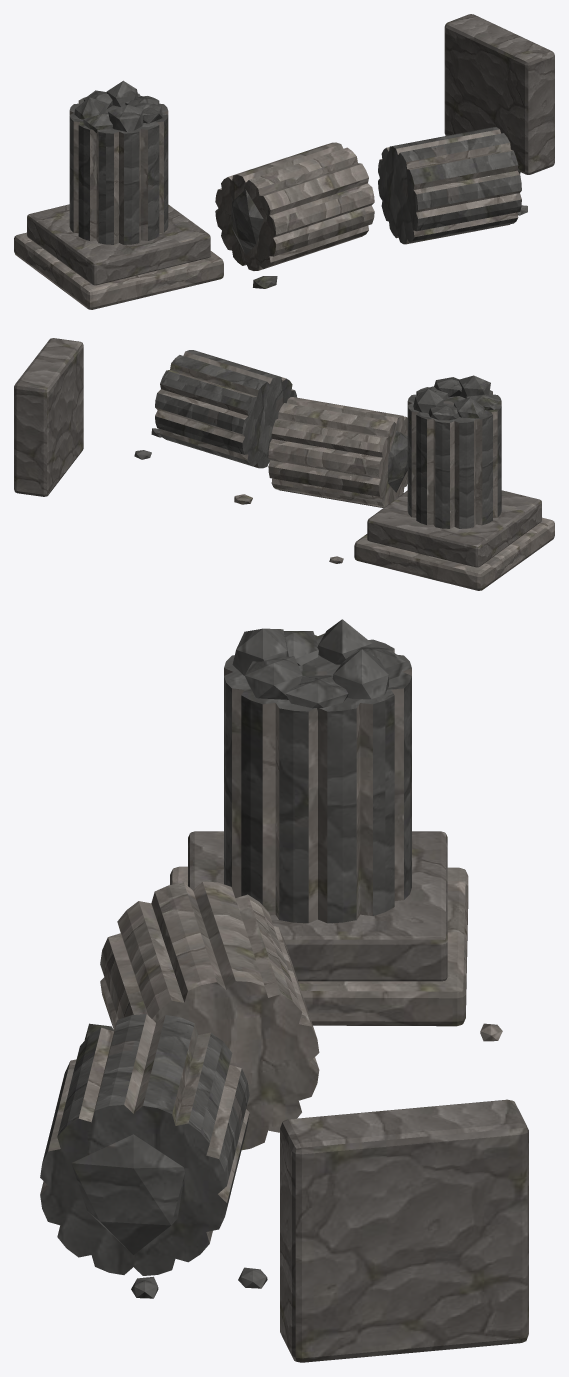
Rendered from th_pillar_fallen.glb.
The picture shows the model from 3 angles, top to bottom: view 1: azimuth 30°, elevation 25°; view 2: azimuth 150°, elevation 25°; view 3: azimuth 270°, elevation 25°; orthographic projection. The views are drawn at different scales.
Parts seen in each view (by area): view 1: model; view 2: model; view 3: model.
Boxes of the visible parts, bbox=[...] form: model: bbox=[14, 14, 554, 309]; model: bbox=[14, 338, 554, 590]; model: bbox=[40, 619, 528, 1362].
Size of the model in its own units: 2.53 by 0.849 by 1.13.
3 materials, 3 textured.
